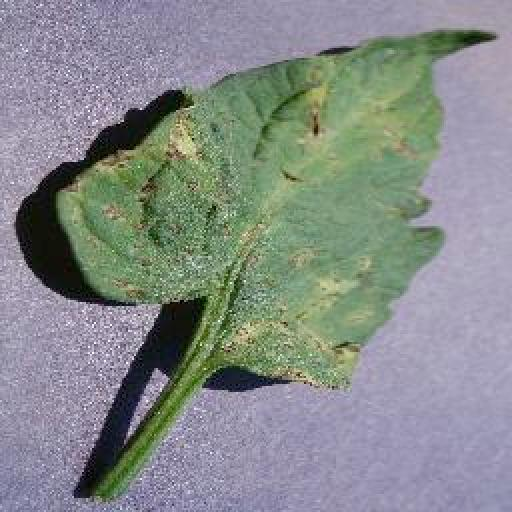disease_tomato: (50, 24, 500, 394)
